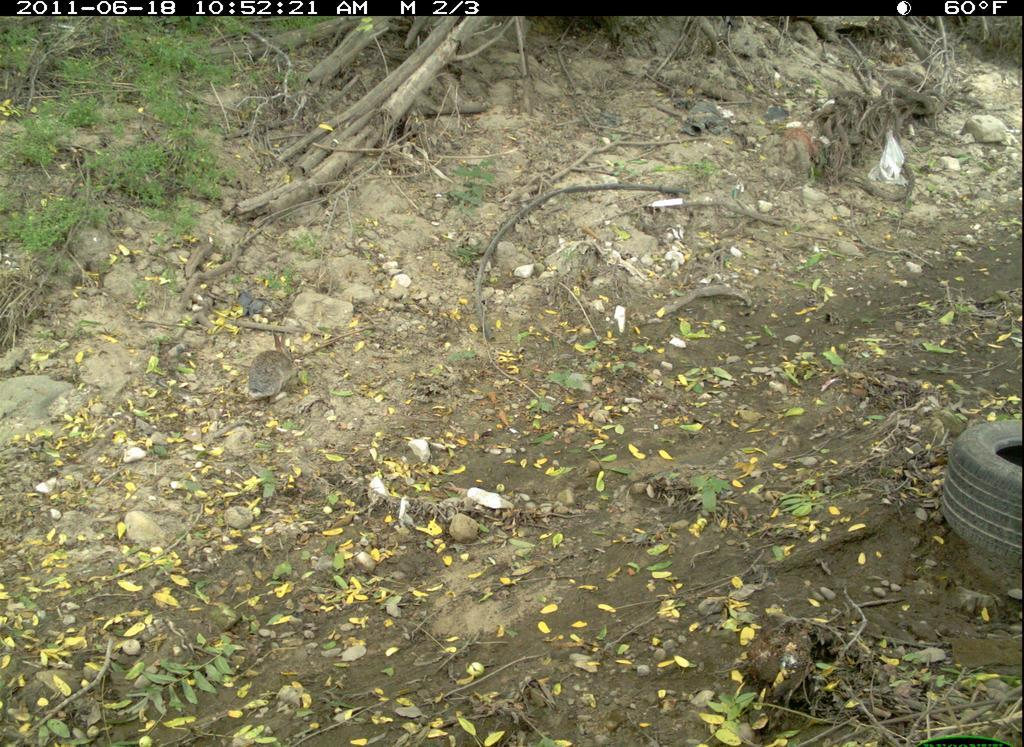rabbit: (244, 328, 301, 402)
